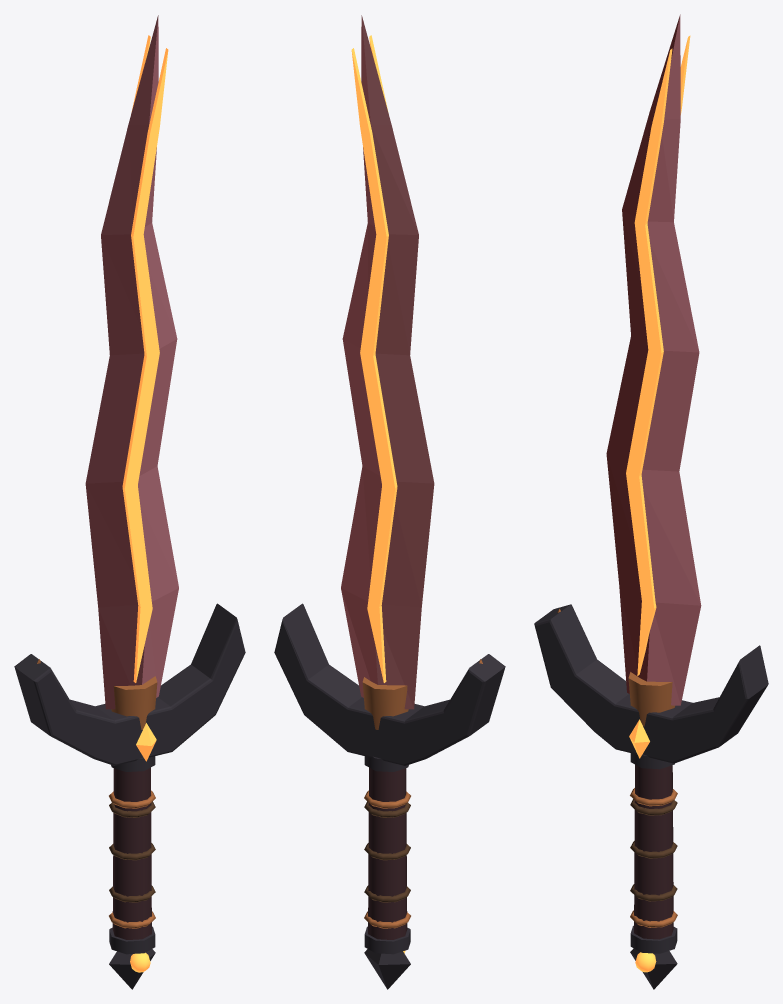
Rendered from sword_f6_b45c07b6.glb.
3 renders of one model, left to right at view 1: azimuth 30°, elevation 25°; view 2: azimuth 150°, elevation 25°; view 3: azimuth 330°, elevation 25°, orthographic.
Parts seen in each view (by area): view 1: m0_ow80_, m4_ow80_, m3_, m1_ow80_, m5_ow80_, m6_ow80_, m7_; view 2: m0_ow80_, m4_ow80_, m2_, m1_ow80_, m5_ow80_, m6_ow80_; view 3: m0_ow80_, m4_ow80_, m3_, m1_ow80_, m5_ow80_, m6_ow80_, m7_.
Boxes of the visible parts, box(x1,y1,x2,y2) form: m0_ow80_: box(85, 15, 178, 709); m4_ow80_: box(14, 603, 245, 989); m3_: box(122, 48, 168, 682); m1_ow80_: box(112, 767, 151, 939); m5_ow80_: box(37, 659, 157, 928); m6_ow80_: box(109, 801, 155, 902); m7_: box(130, 723, 156, 972); m0_ow80_: box(341, 15, 434, 709); m4_ow80_: box(274, 603, 505, 989); m2_: box(351, 48, 397, 682); m1_ow80_: box(368, 767, 407, 939); m5_ow80_: box(362, 659, 482, 928); m6_ow80_: box(364, 801, 410, 902); m0_ow80_: box(606, 14, 701, 705); m4_ow80_: box(534, 604, 768, 989); m3_: box(626, 48, 672, 675); m1_ow80_: box(634, 764, 673, 939); m5_ow80_: box(557, 608, 677, 927); m6_ow80_: box(630, 799, 677, 901); m7_: box(629, 719, 656, 972).
Size of the model in its own units: 0.4713 by 2.06 by 0.1241.
